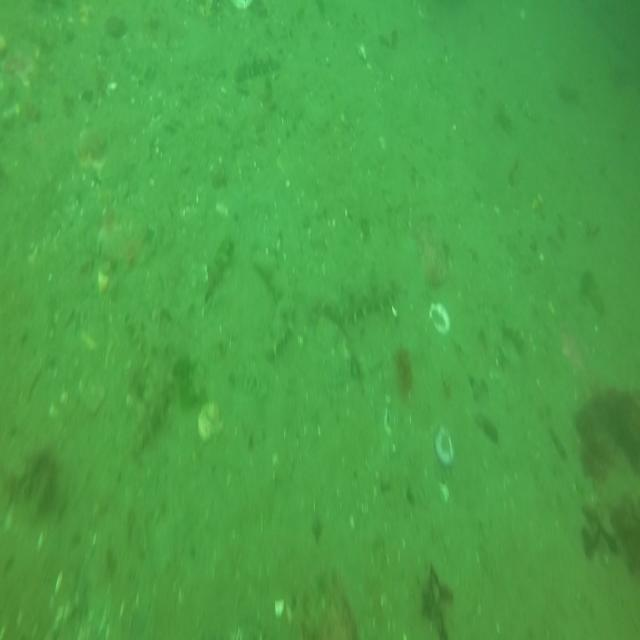holothurian: (123, 313, 172, 447), (252, 251, 295, 358), (309, 278, 400, 322), (233, 51, 281, 84)
